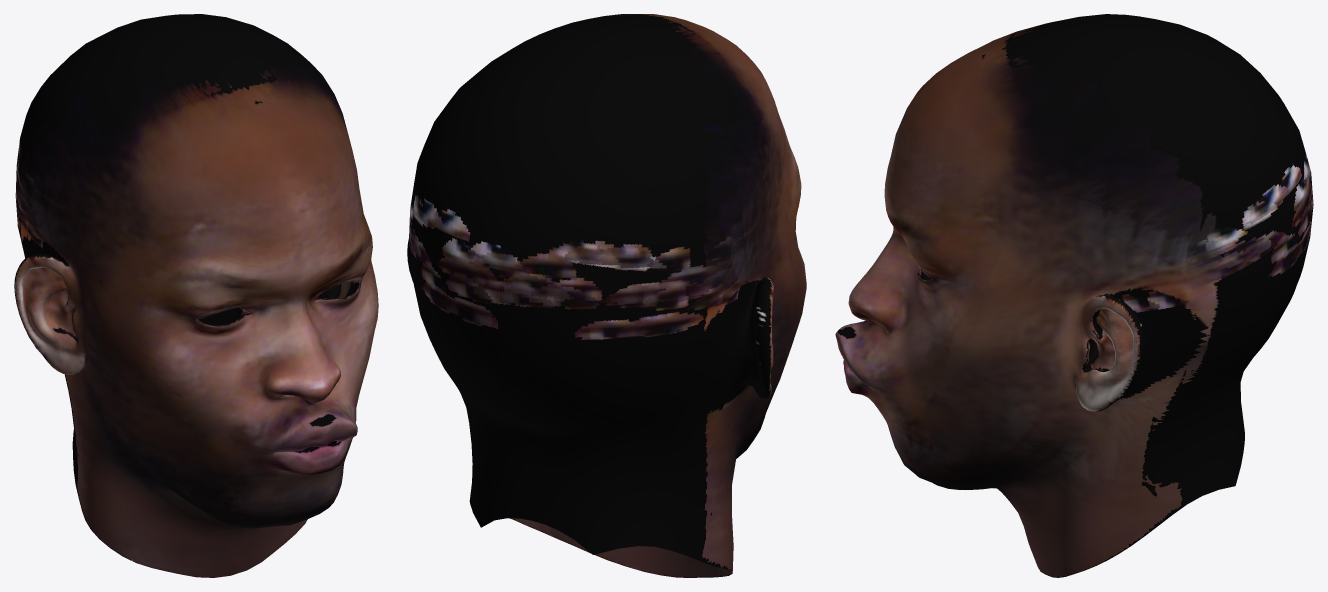
File: Kiss.obj
3 views of the same model, side by side, from view 1: azimuth 30°, elevation 25°; view 2: azimuth 150°, elevation 25°; view 3: azimuth 270°, elevation 25° (orthographic). The views are drawn at different scales.
Bounding box in the file's own units: 191 × 281 × 230.
